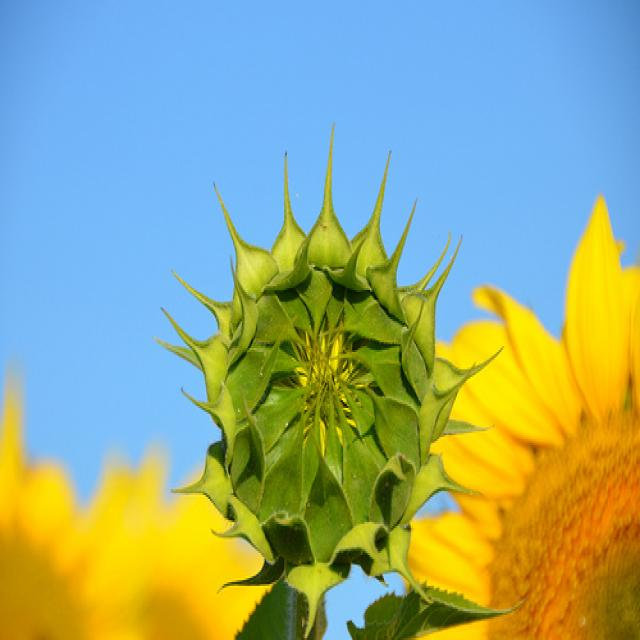sunflower: (159, 162, 493, 612), (436, 251, 640, 640)
